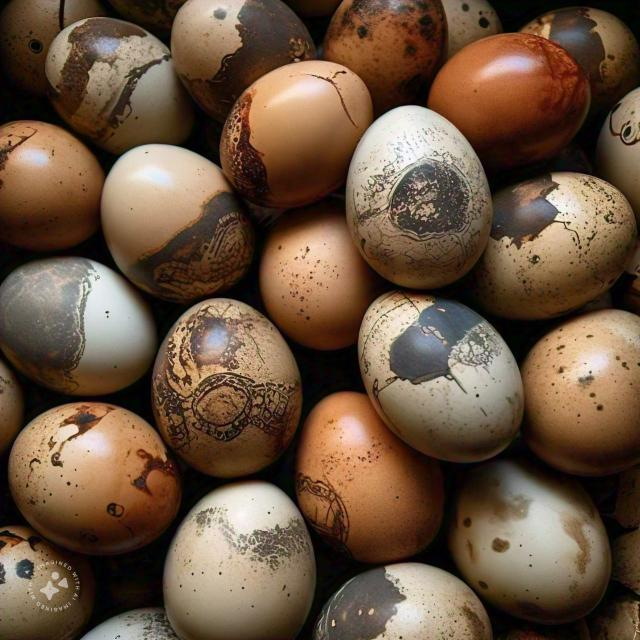Blood Stained Egg: (0, 403, 194, 546), (324, 0, 487, 138), (435, 49, 616, 157)
Dirt Stained Egg: (102, 139, 288, 310), (348, 114, 508, 297), (162, 300, 298, 480), (247, 96, 386, 222)
